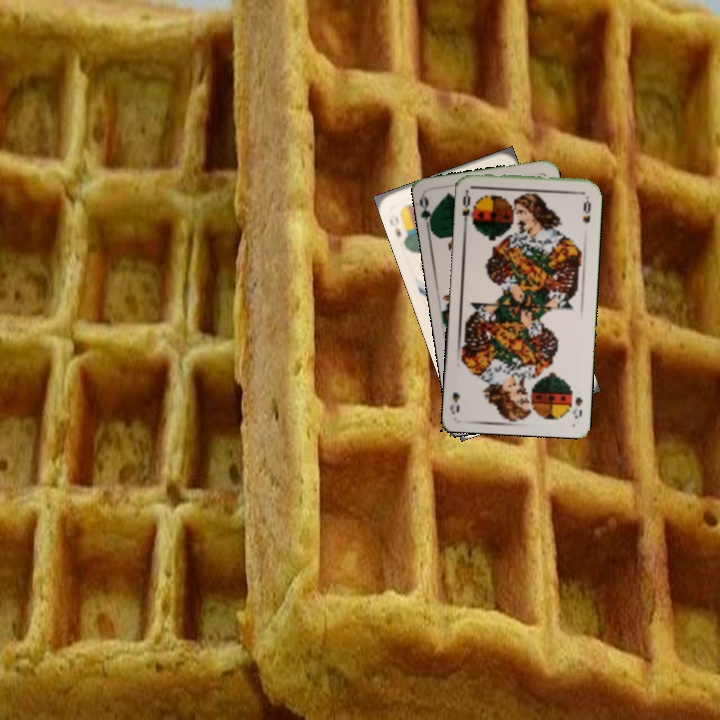EO: (385, 210, 404, 240)
GO: (416, 192, 438, 233)
SO: (458, 187, 473, 227), (568, 393, 585, 421)
